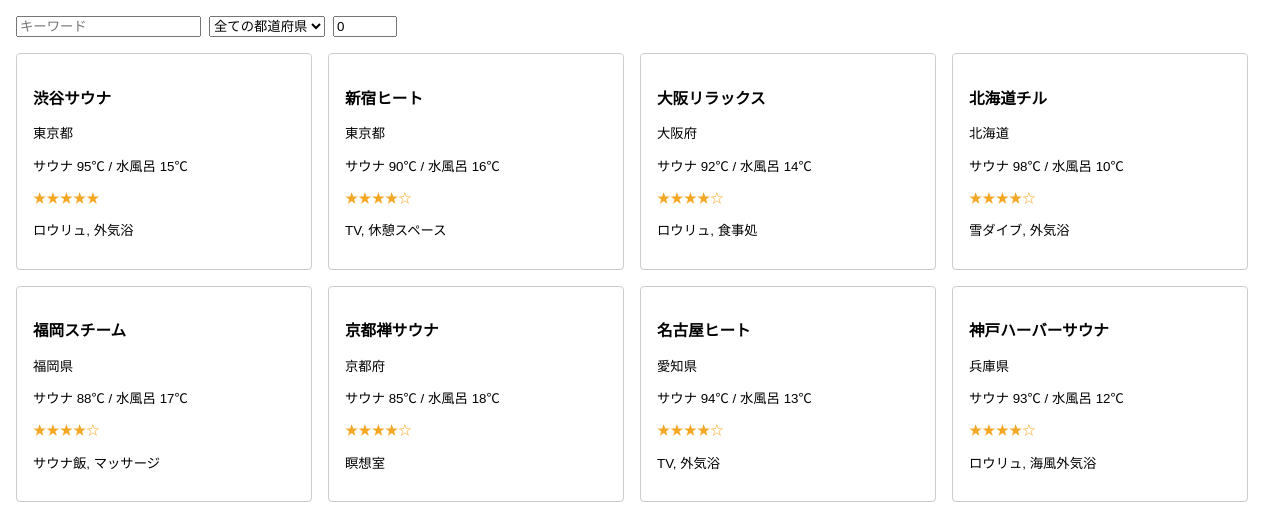
Test: prefecture filter
Select "東京都" in the dropdown named "都道府県". click: (267, 26)
box: [209, 16, 325, 37]
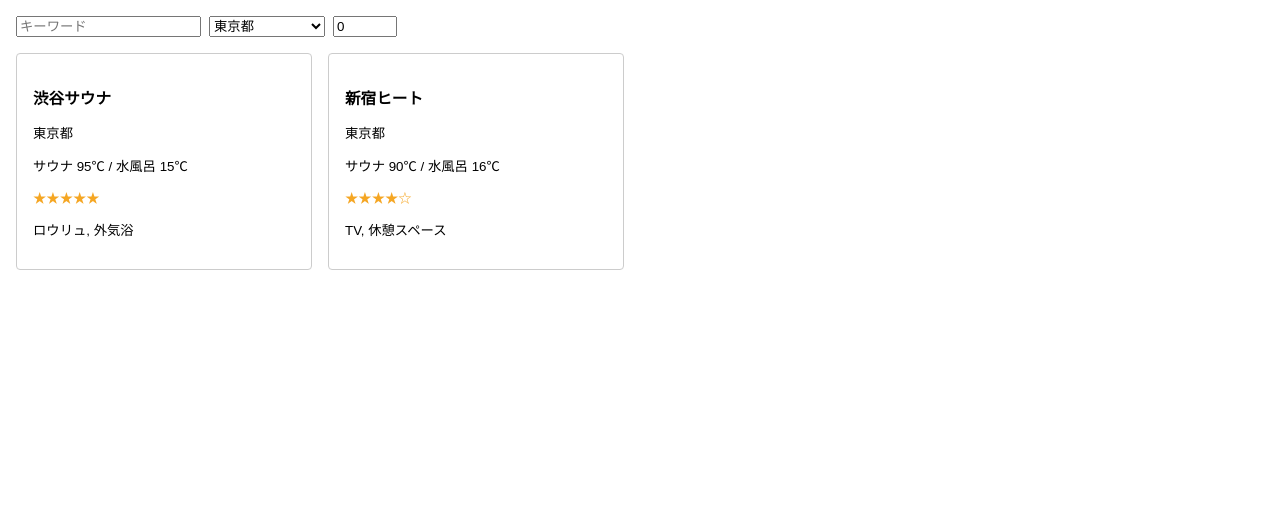
Check: the number of buttons is 2, box [16, 53, 312, 270]; [328, 53, 624, 270]
